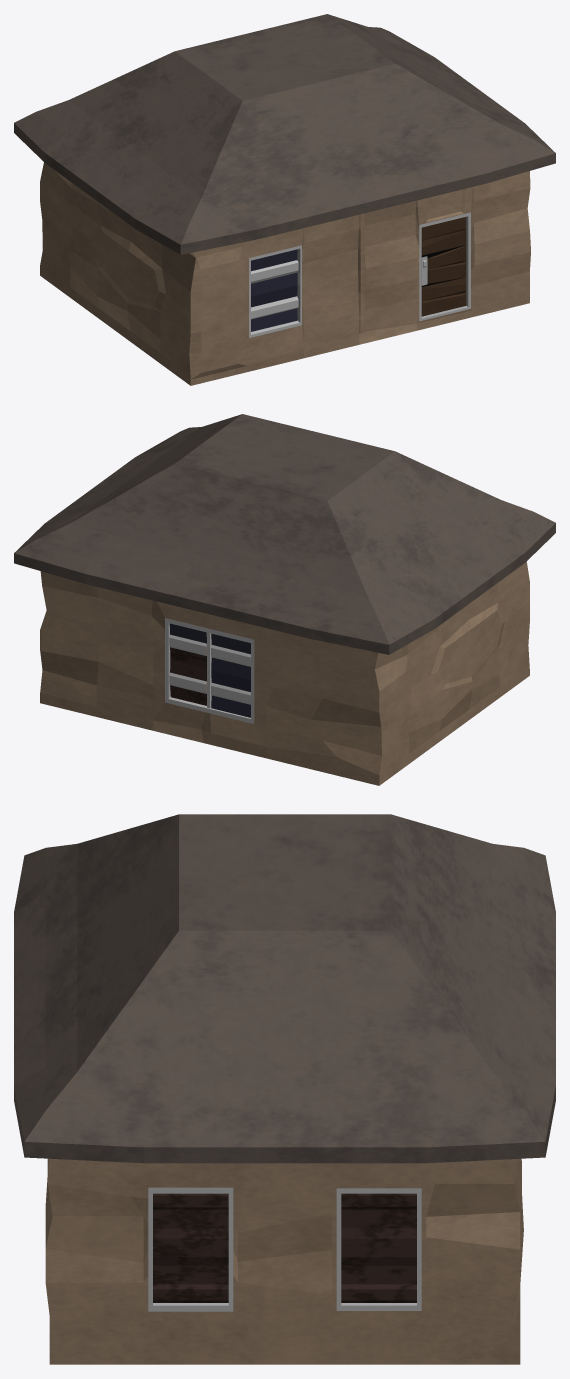
File: House.fbx
The picture shows the model from 3 angles, top to bottom: view 1: azimuth 30°, elevation 25°; view 2: azimuth 150°, elevation 25°; view 3: azimuth 270°, elevation 25°; orthographic projection. The views are drawn at different scales.
Parts seen in each view (by area): view 1: Cube; view 2: Cube; view 3: Cube.
Part boxes in pixels (x1,y1,x2,y2): Cube: [14, 14, 555, 385]; Cube: [14, 414, 555, 785]; Cube: [14, 814, 555, 1364].
Bounding box in the file's own units: 1077 × 612 × 829.
